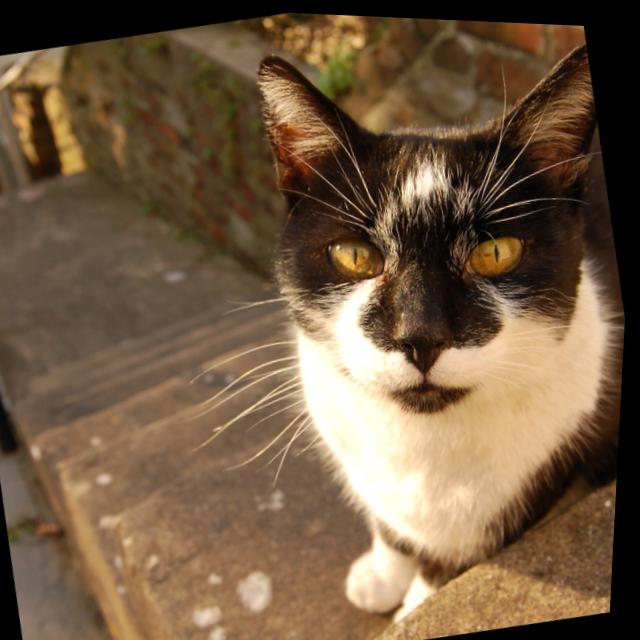animals: (251, 9, 640, 390)
